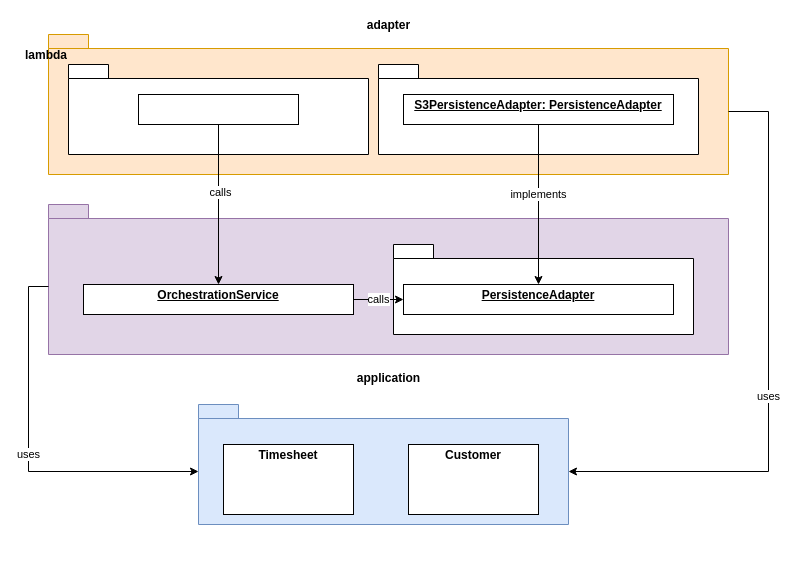
The diagram is 797 pixels wide and 572 high, and some of its shapes have lost their labels. The box of each missing label's shape, as (x1, y1, x2, y2) in pixels:
domain: (198, 404, 568, 524)
LambdaAdapter: (138, 94, 298, 124)
port: (392, 244, 694, 334)
s3: (378, 64, 698, 154)
